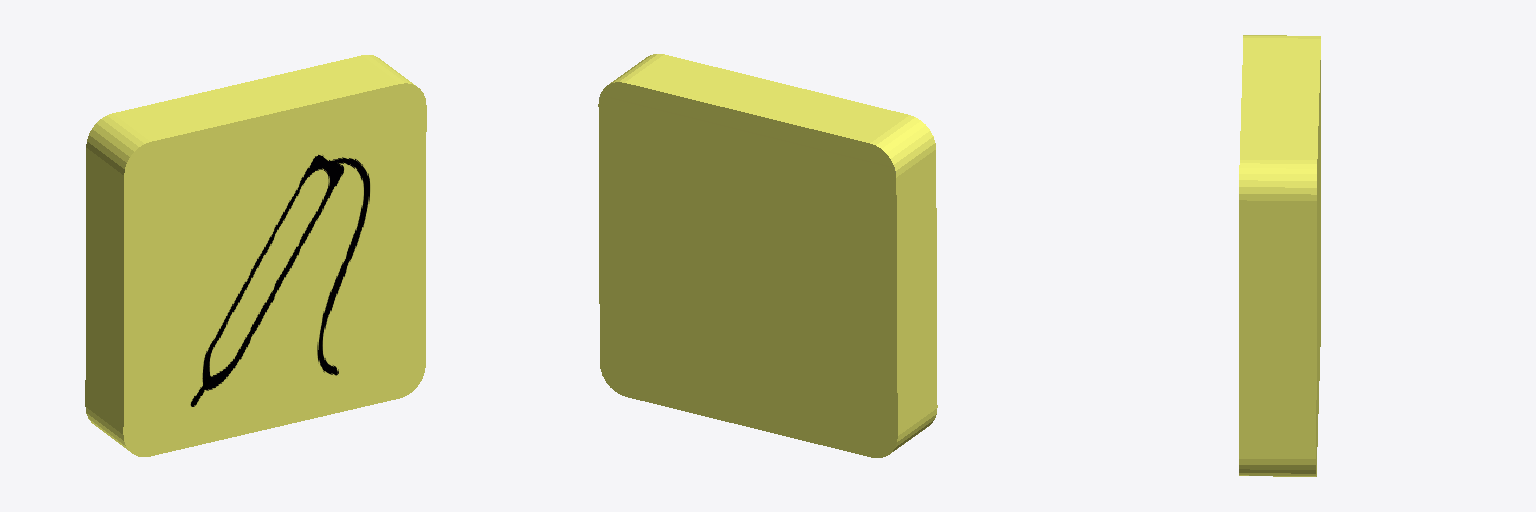
3 renders of one model, left to right at view 1: azimuth 30°, elevation 25°; view 2: azimuth 150°, elevation 25°; view 3: azimuth 270°, elevation 25°, orthographic.
Size of the model in its own units: 5.39 by 5.38 by 1.28.
1 materials, 1 textured.